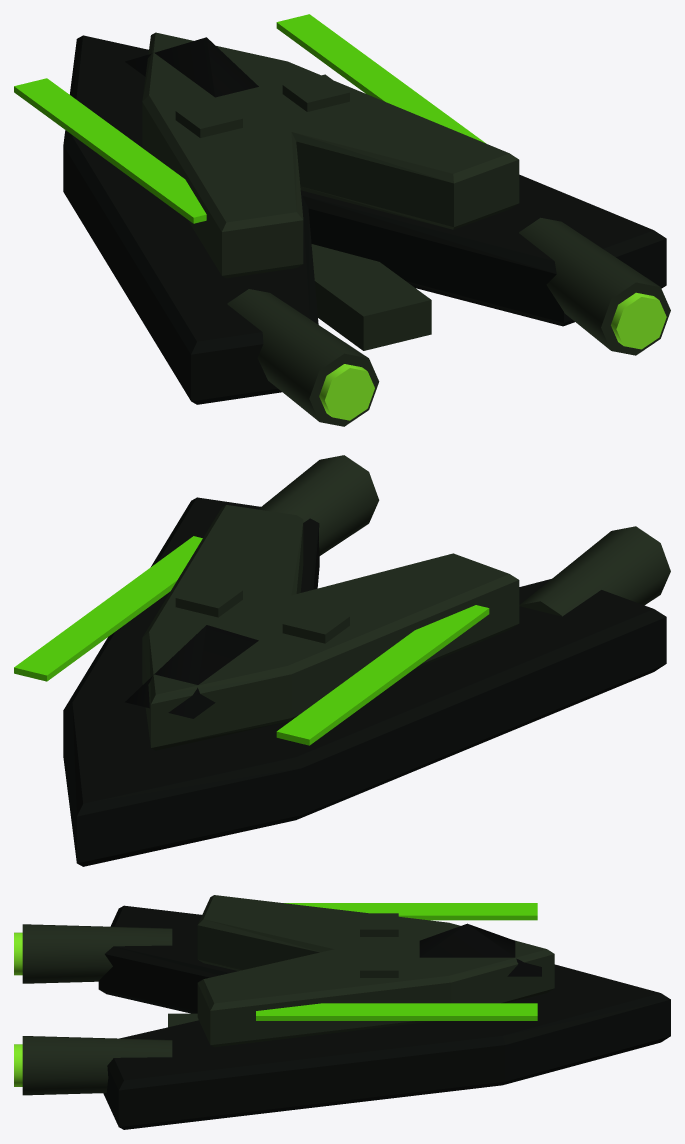
File: Corvette.obj
3 views of the same model, one above another, from view 1: azimuth 30°, elevation 25°; view 2: azimuth 150°, elevation 25°; view 3: azimuth 270°, elevation 25° (orthographic). The views are drawn at different scales.
Parts seen in each view (by area): view 1: corvette_hull, corvette_spine, corvette_engine_nacelle, corvette_stripe, corvette_keel, corvette_engine_bell, corvette_turret, corvette_bridge; view 2: corvette_hull, corvette_spine, corvette_engine_nacelle, corvette_stripe, corvette_bridge, corvette_turret; view 3: corvette_hull, corvette_spine, corvette_engine_nacelle, corvette_stripe, corvette_bridge, corvette_turret, corvette_engine_bell.
Boxes of the visible parts, x1,y1,x2,y2 form: corvette_hull: [63, 35, 666, 404]; corvette_spine: [142, 32, 519, 278]; corvette_engine_nacelle: [227, 217, 670, 426]; corvette_stripe: [14, 14, 485, 223]; corvette_keel: [311, 244, 431, 350]; corvette_engine_bell: [319, 292, 666, 420]; corvette_turret: [175, 74, 349, 137]; corvette_bridge: [125, 37, 258, 97]; corvette_hull: [63, 497, 666, 866]; corvette_spine: [142, 505, 519, 750]; corvette_engine_nacelle: [258, 455, 670, 616]; corvette_stripe: [14, 536, 489, 745]; corvette_bridge: [125, 625, 258, 718]; corvette_turret: [175, 580, 349, 643]; corvette_hull: [98, 905, 670, 1129]; corvette_spine: [197, 895, 554, 1047]; corvette_engine_nacelle: [22, 924, 172, 1095]; corvette_stripe: [256, 903, 537, 1020]; corvette_bridge: [419, 923, 541, 976]; corvette_turret: [360, 913, 398, 977]; corvette_engine_bell: [14, 932, 22, 1086].
Size of the model in its own units: 17.19 by 5.73 by 26.22.
